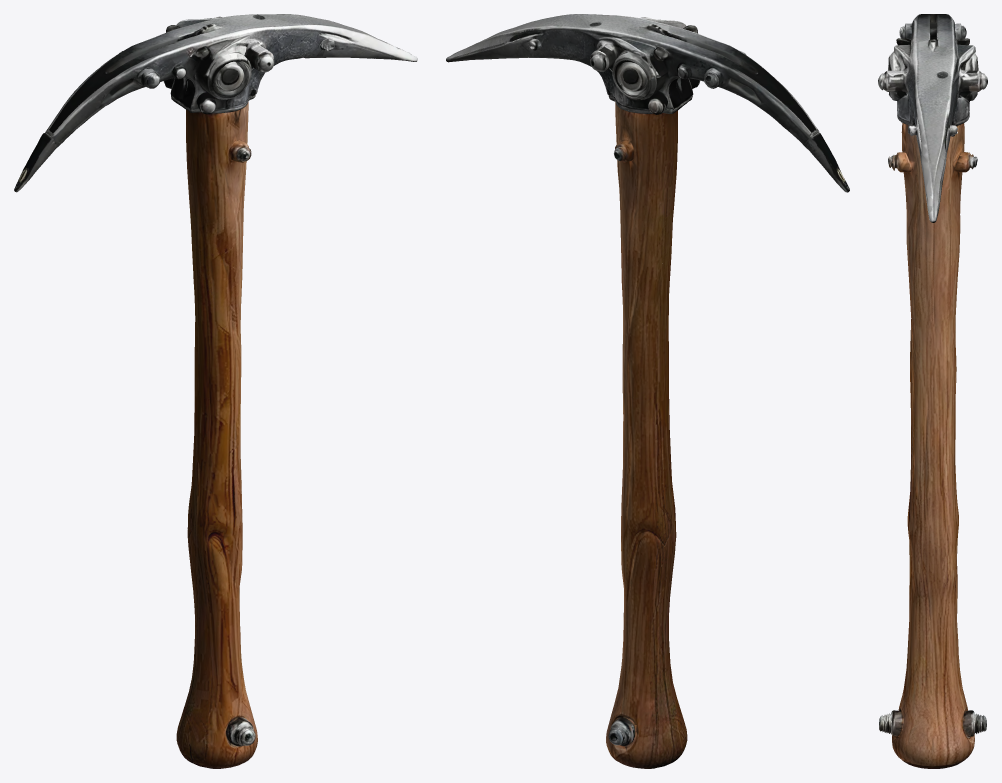
The model's file is ice-axe.glb.
The picture shows the model from 3 angles, left to right: view 1: azimuth 30°, elevation 25°; view 2: azimuth 150°, elevation 25°; view 3: azimuth 270°, elevation 25°; orthographic projection. The views are drawn at different scales.
Parts seen in each view (by area): view 1: node_dfc11d61-203b-4735-845e-c9a1bfb6927e; view 2: node_dfc11d61-203b-4735-845e-c9a1bfb6927e; view 3: node_dfc11d61-203b-4735-845e-c9a1bfb6927e.
Part boxes in pixels (x1=…): node_dfc11d61-203b-4735-845e-c9a1bfb6927e: x1=14, y1=14, x2=417, y2=768; node_dfc11d61-203b-4735-845e-c9a1bfb6927e: x1=446, y1=14, x2=849, y2=768; node_dfc11d61-203b-4735-845e-c9a1bfb6927e: x1=878, y1=14, x2=987, y2=768.
Bounding box in the file's own units: 0.5649 × 0.9817 × 0.1371.
Materials: 1 (1 with a texture image).
